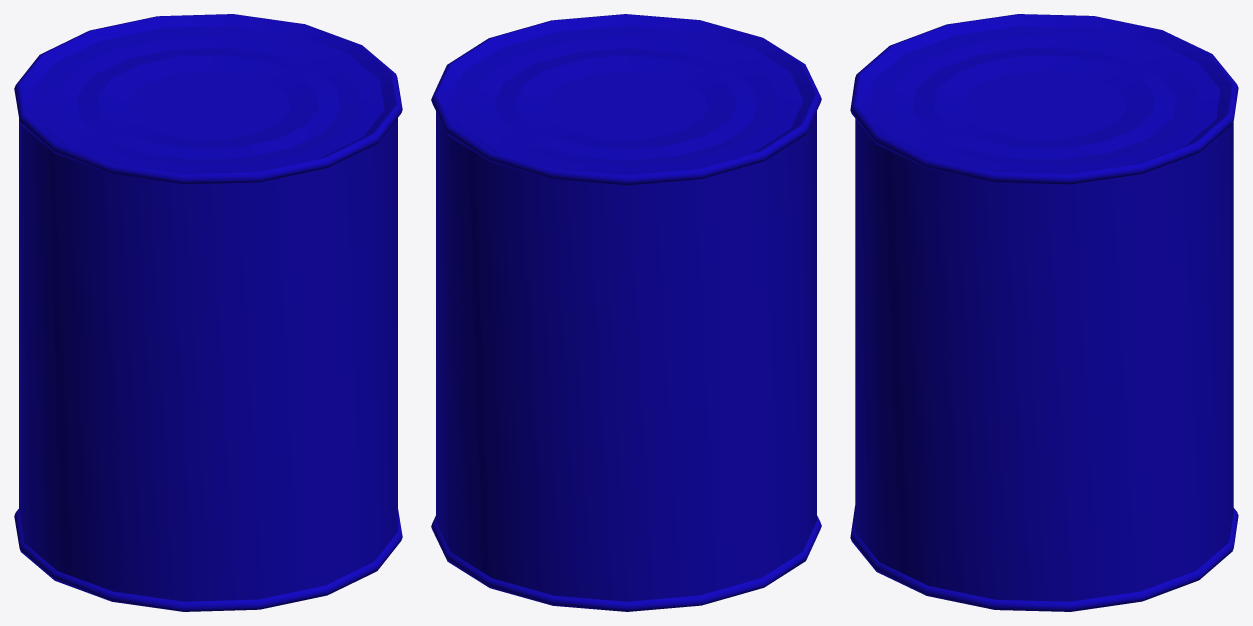
Rendered from Свиная тушенка.fbx.
3 views of the same model, side by side, from view 1: azimuth 30°, elevation 25°; view 2: azimuth 150°, elevation 25°; view 3: azimuth 270°, elevation 25° (orthographic).
Parts seen in each view (by area): view 1: 1; view 2: 1; view 3: 1.
Part boxes in pixels (x1,y1,x2,y2): 1: (14,14,402,611); 1: (431,14,821,611); 1: (850,14,1238,611).
Size of the model in its own units: 78.55 by 97.71 by 78.55.
